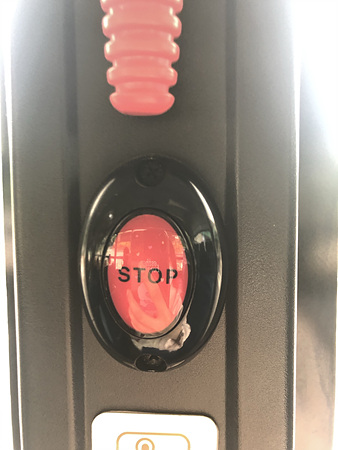bell: (79, 155, 228, 372)
